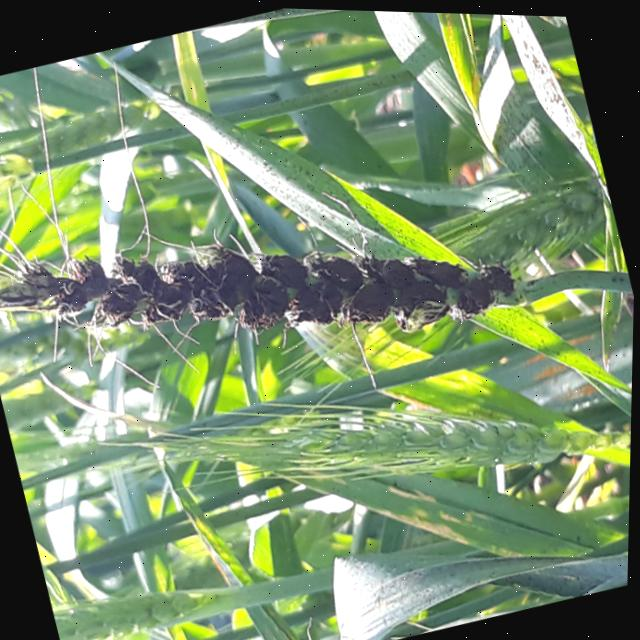loose_charred: (0, 83, 639, 493)
